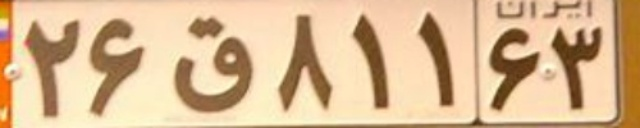1: (347, 13, 393, 110), (417, 11, 458, 107)
2: (25, 18, 78, 116)
3: (553, 25, 605, 110)
6: (84, 17, 146, 116), (487, 26, 539, 110)
8: (274, 13, 332, 111)
ghaf: (166, 17, 253, 111)
